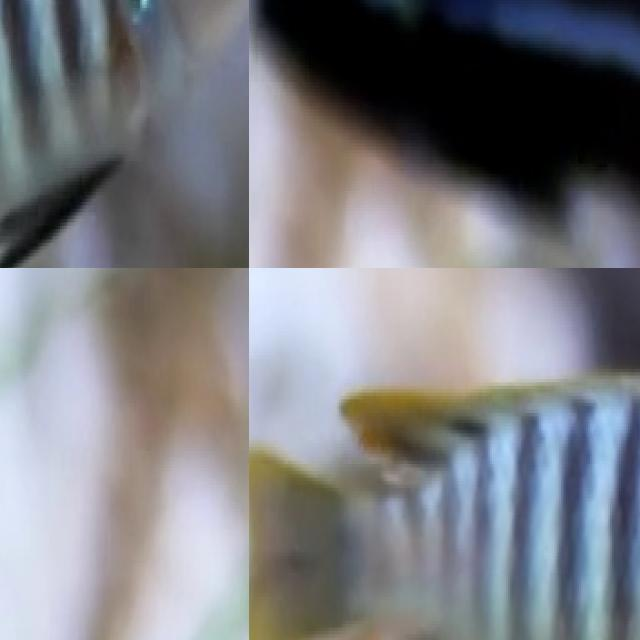fish: (249, 0, 640, 248), (0, 0, 249, 268)
